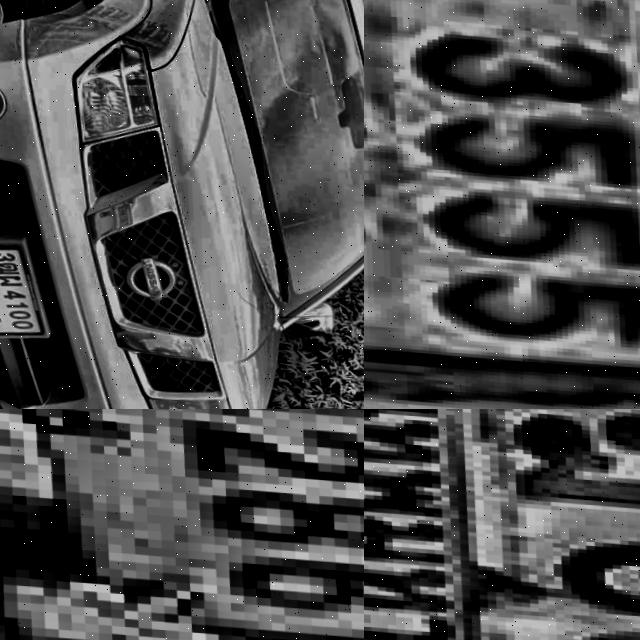license-plate: (364, 0, 640, 409), (0, 409, 364, 640), (364, 409, 640, 640), (0, 230, 44, 343)
